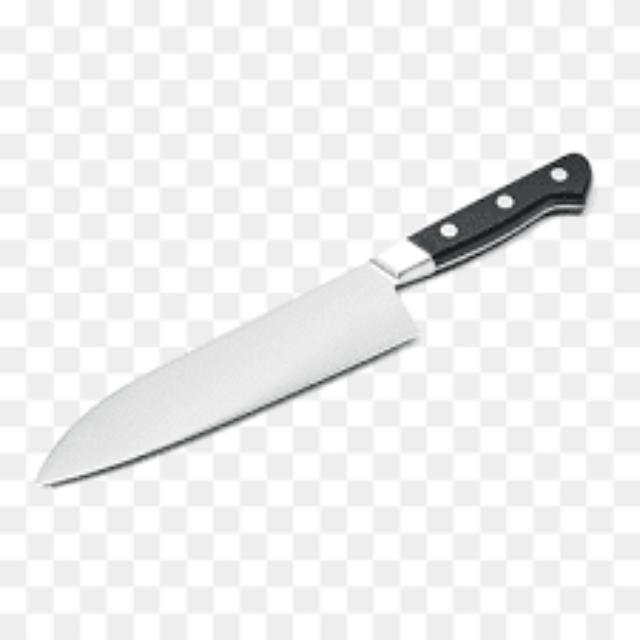knife: (34, 152, 592, 486)
